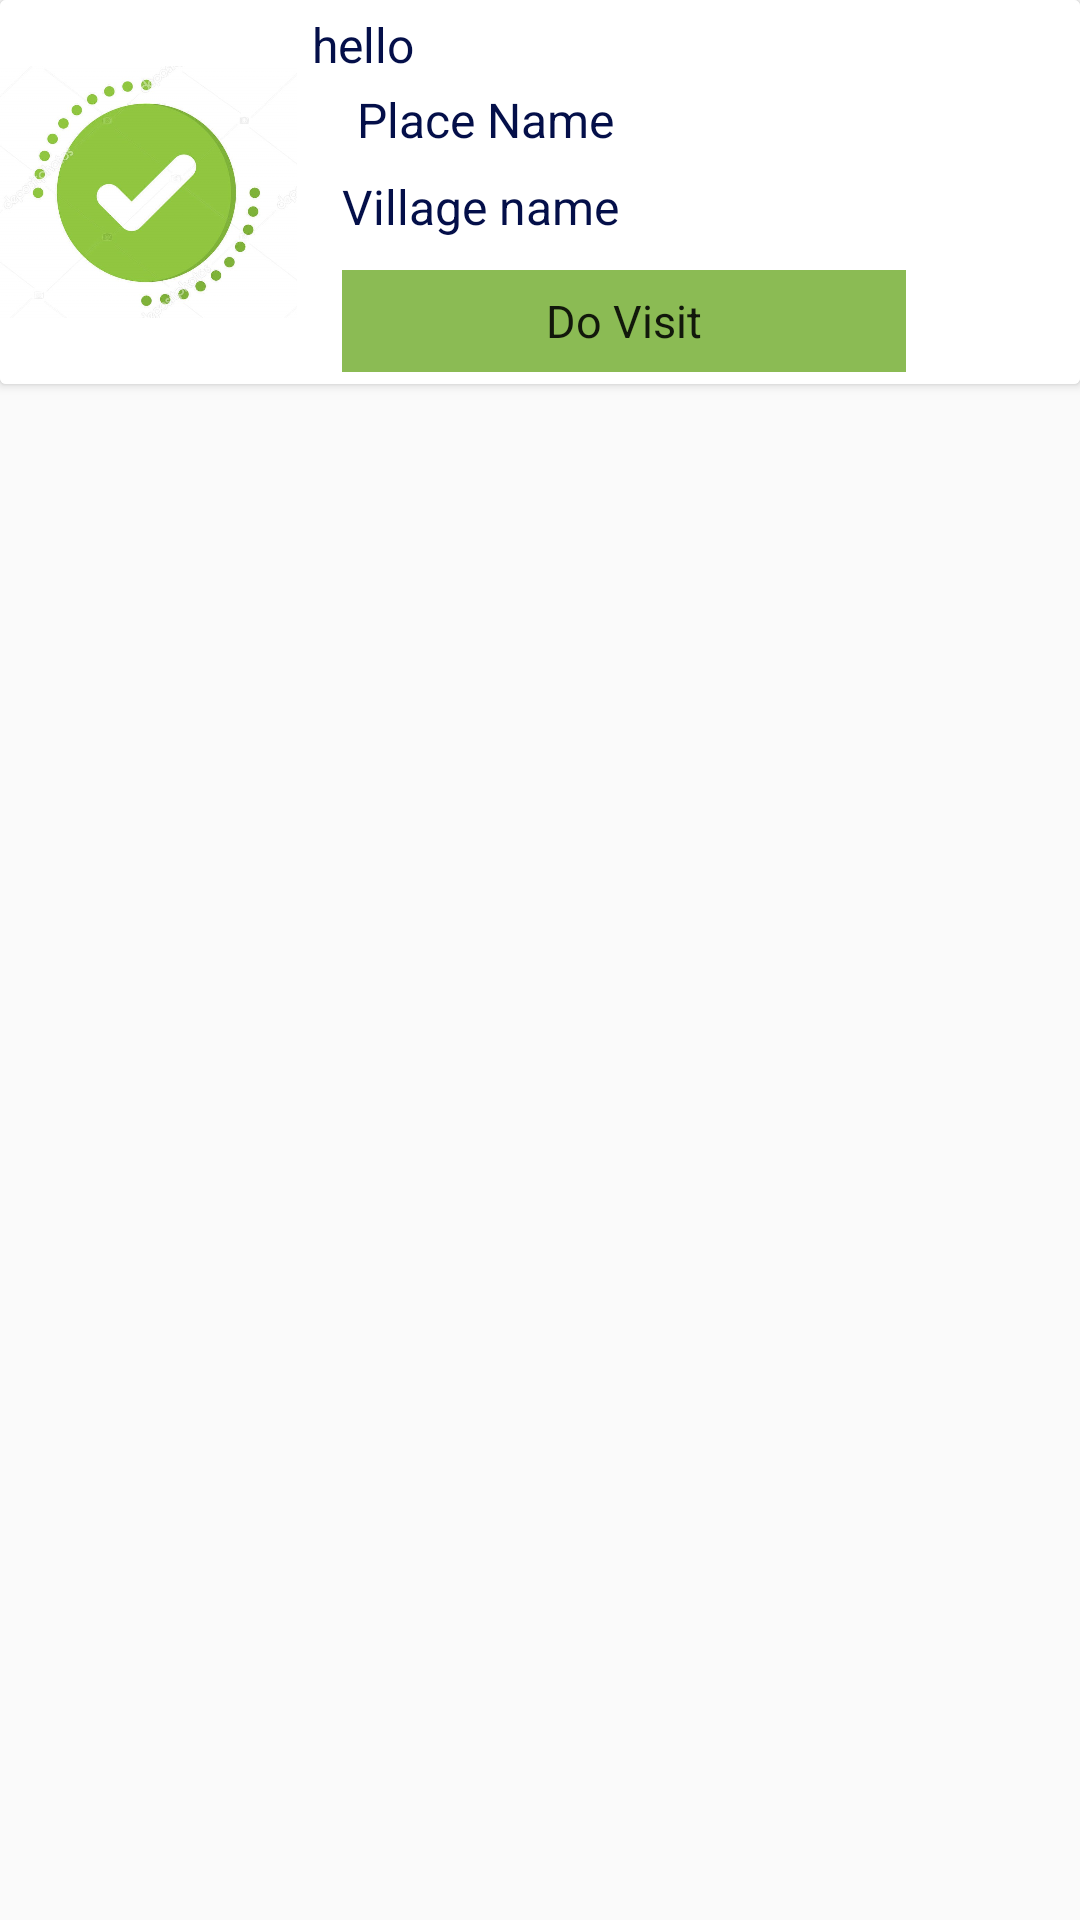

Icon bounding boxes for this 1080×1920 phone screenshot, format (x1, y1, x2, y2):
correct: (32, 79, 280, 306)
